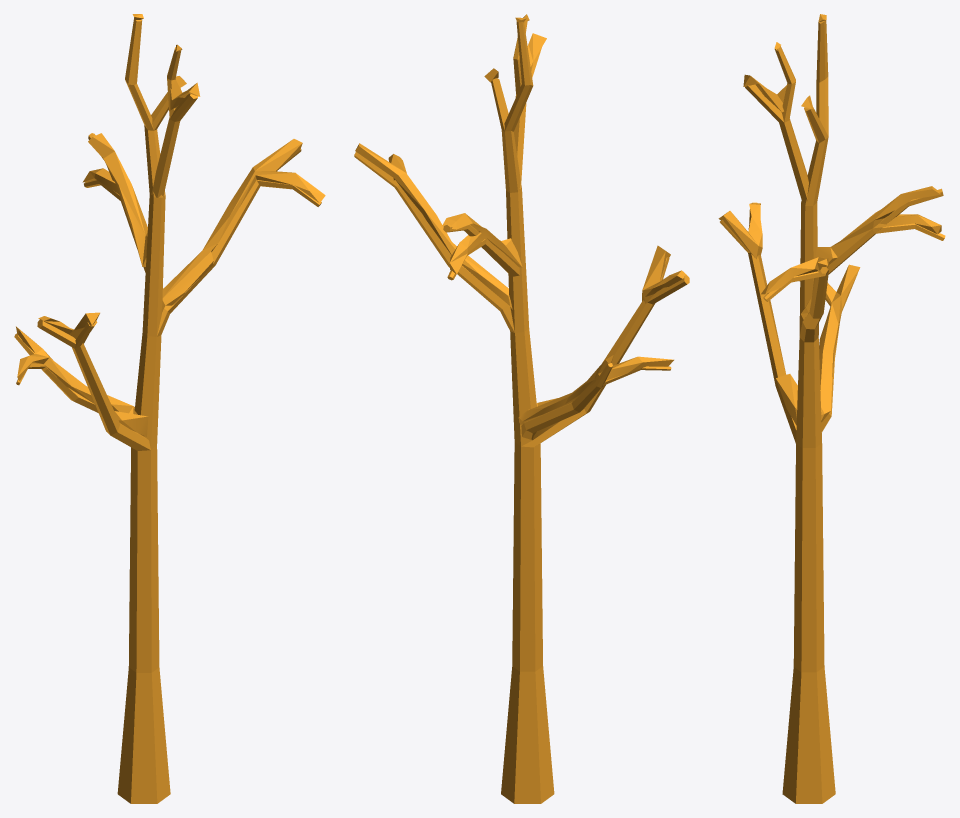
File: SM_Tree_Beech_Sapling_A_Bare_Snow.fbx
3 renders of one model, left to right at view 1: azimuth 30°, elevation 25°; view 2: azimuth 150°, elevation 25°; view 3: azimuth 270°, elevation 25°, orthographic.
Visible parts, largest first — view 1: tree-beech-sapling-a-bare-snow; view 2: tree-beech-sapling-a-bare-snow; view 3: tree-beech-sapling-a-bare-snow.
Part boxes in pixels (x1,y1,x2,y2): tree-beech-sapling-a-bare-snow: [14, 14, 325, 803]; tree-beech-sapling-a-bare-snow: [354, 14, 689, 803]; tree-beech-sapling-a-bare-snow: [718, 14, 945, 803].
Bounding box in the file's own units: 0.8947 × 2.21 × 0.5843.
